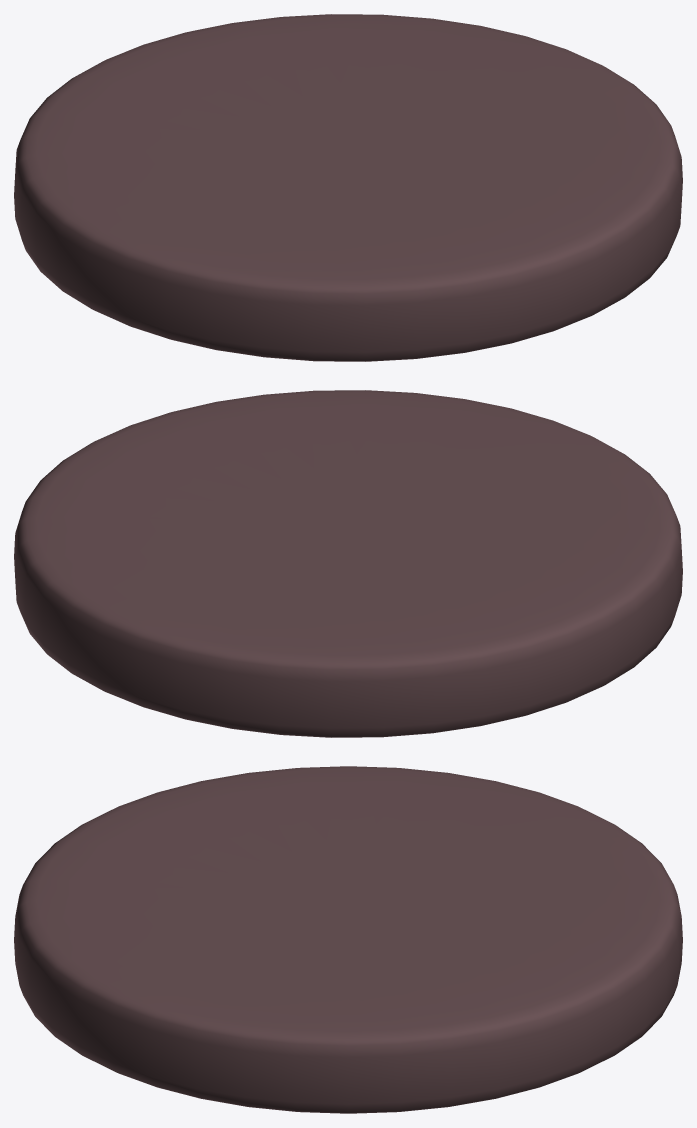
Rendered from Meat.fbx.
The picture shows the model from 3 angles, top to bottom: view 1: azimuth 30°, elevation 25°; view 2: azimuth 150°, elevation 25°; view 3: azimuth 270°, elevation 25°; orthographic projection.
Parts seen in each view (by area): view 1: pCylinder25; view 2: pCylinder25; view 3: pCylinder25.
Boxes of the visible parts, left/top/right/bottom form: pCylinder25: left=14, top=14, right=682, bottom=361; pCylinder25: left=14, top=390, right=682, bottom=737; pCylinder25: left=14, top=766, right=682, bottom=1113.
Size of the model in its own units: 3.76 by 0.4888 by 3.76.
